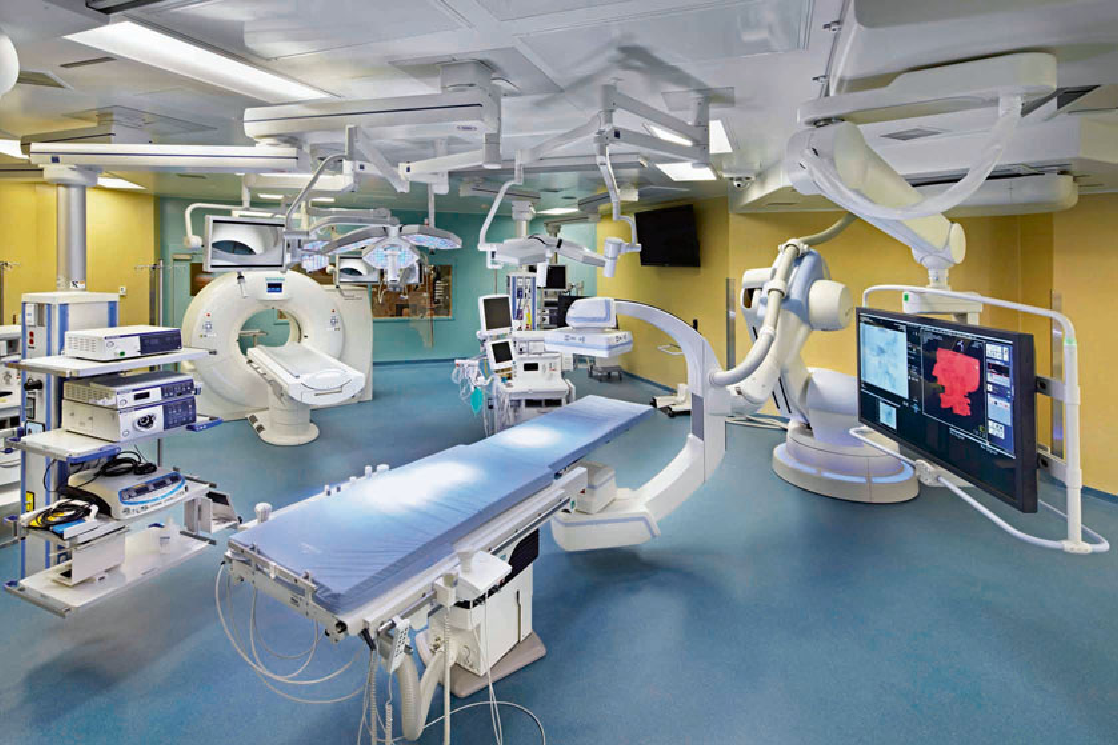TV: (629, 201, 709, 270)
bedside_monitor: (852, 304, 1043, 515), (525, 262, 571, 295), (478, 295, 515, 336), (484, 339, 520, 371)
exam_table: (223, 392, 672, 746)
surgical_light: (361, 235, 421, 283), (403, 222, 465, 253)
xray_bed: (246, 335, 371, 406)
xray_machine: (189, 274, 374, 419)
